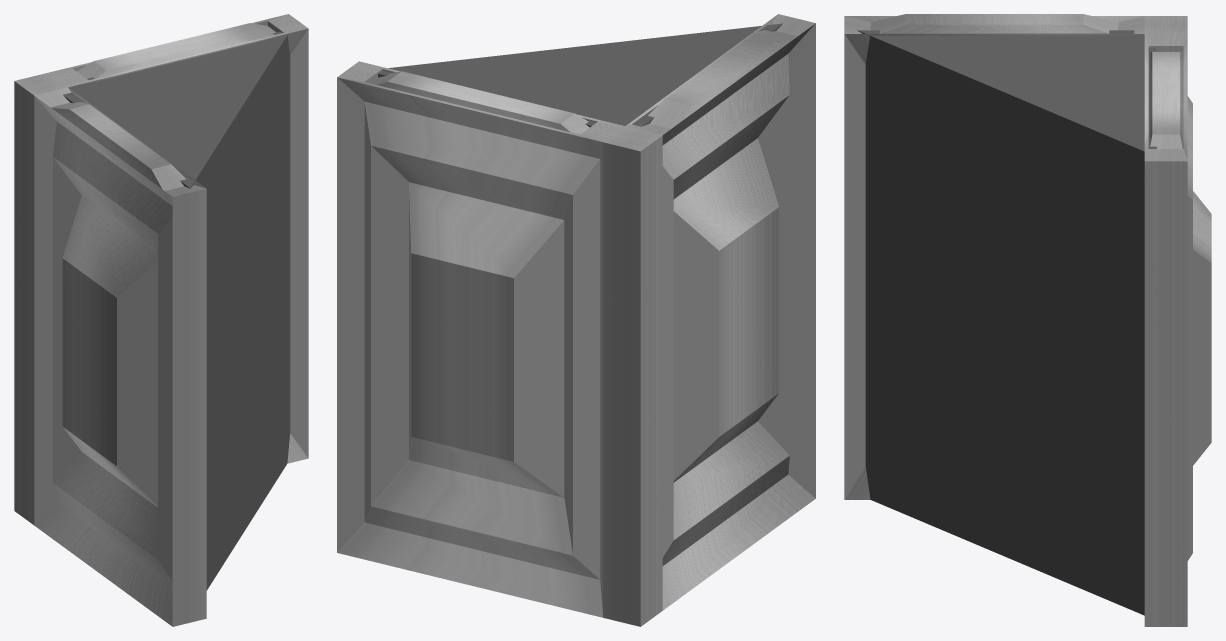
File: Mirror.fbx
3 views of the same model, side by side, from view 1: azimuth 30°, elevation 25°; view 2: azimuth 150°, elevation 25°; view 3: azimuth 270°, elevation 25° (orthographic). The views are drawn at different scales.
Visible parts, largest first — view 1: polySurface1; view 2: polySurface1; view 3: polySurface1.
Boxes of the visible parts, <box> form: polySurface1: <box>14,14,308,626</box>; polySurface1: <box>337,14,815,626</box>; polySurface1: <box>844,14,1211,626</box>.
Bounding box in the file's own units: 2.83 × 4.12 × 2.91.
Materials: 2 (1 with a texture image).
